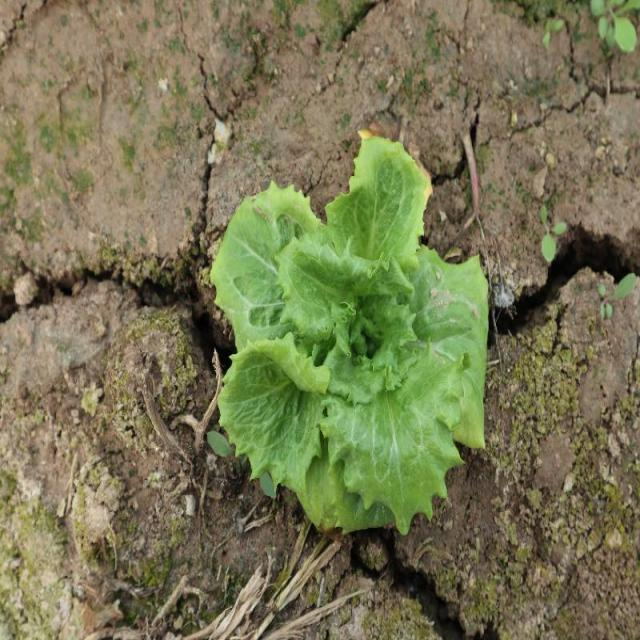crop: (211, 128, 489, 537)
